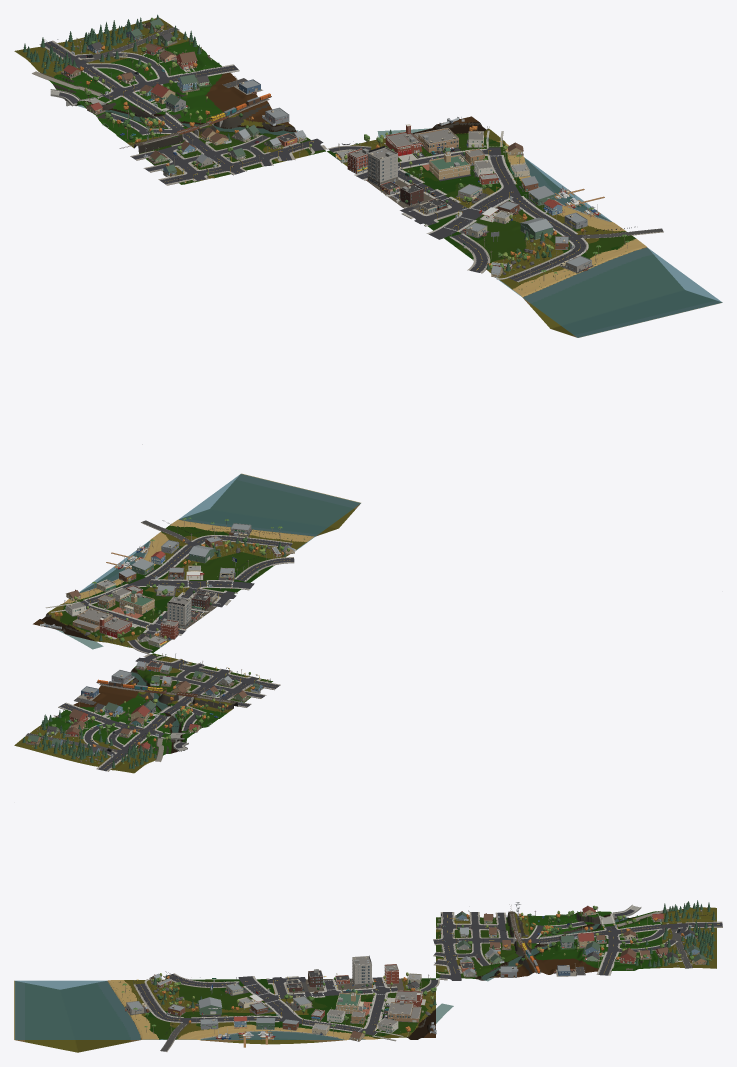
File: PortSolace_Exterior_part4of5.fbx
The picture shows the model from 3 angles, top to bottom: view 1: azimuth 30°, elevation 25°; view 2: azimuth 150°, elevation 25°; view 3: azimuth 270°, elevation 25°; orthographic projection. The views are drawn at different scales.
Parts seen in each view (by area): view 1: Terrain_1_7, Roads_C2_3.asphalt, Sea_0_6, Sea_0_7, Roads_C3_1.asphalt, Terrain_1_6, Terrain_7_5, Terrain_0_6, Sea_1_7, Terrain_0_7, Props_C2_4.leaf_pine, Roads_C2_4.asphalt (+20 smaller); view 2: Terrain_0_7, Terrain_0_6, Sea_0_7, Sea_0_6, Roads_C2_3.asphalt, Roads_C3_1.asphalt, Props_C2_4.leaf_pine, Sea_1_7, Terrain_2_6, Roads_C2_4.asphalt, Terrain_7_5, Terrain_1_7 (+21 smaller); view 3: Roads_C2_3.asphalt, Sea_0_6, Terrain_1_7, Terrain_0_6, Terrain_0_7, Sea_0_7, Roads_C3_1.asphalt, Terrain_1_6, Sea_1_7, Props_C2_4.leaf_pine, Terrain_7_5, Roads_C3_2.asphalt (+22 smaller).
Part boxes in pixels (x1,y1,x2,y2): Terrain_1_7: (581,241,680,298); Roads_C2_3.asphalt: (110,93,324,184); Sea_0_6: (536,290,649,337); Sea_0_7: (609,272,722,320); Roads_C3_1.asphalt: (405,184,585,272); Terrain_1_6: (497,266,607,312); Terrain_7_5: (175,86,280,134); Terrain_0_6: (536,300,649,337); Sea_1_7: (584,247,680,289); Terrain_0_7: (609,286,722,320); Props_C2_4.leaf_pine: (23,14,201,90); Roads_C2_4.asphalt: (44,41,238,105); Terrain_0_7: (208,473,300,521); Terrain_0_6: (268,488,360,532); Sea_0_7: (207,474,300,513); Sea_0_6: (267,488,360,528); Roads_C2_3.asphalt: (135,655,279,731); Roads_C3_1.asphalt: (128,536,294,604); Props_C2_4.leaf_pine: (22,704,156,768); Sea_1_7: (179,499,265,526); Terrain_2_6: (197,542,289,577); Roads_C2_4.asphalt: (59,703,185,771); Terrain_7_5: (92,679,172,712); Terrain_1_7: (172,510,265,535); Roads_C2_3.asphalt: (433,912,605,980); Sea_0_6: (14,980,84,1010); Terrain_1_7: (84,1010,154,1051); Terrain_0_6: (14,980,83,1020); Terrain_0_7: (14,1010,84,1052); Sea_0_7: (14,1010,84,1039); Roads_C3_1.asphalt: (153,974,304,1023); Terrain_1_6: (84,980,154,1017); Sea_1_7: (84,1010,154,1039); Props_C2_4.leaf_pine: (582,900,715,967); Terrain_7_5: (506,943,576,977); Roads_C3_2.asphalt: (292,977,437,1035).
Bounding box in the file's own units: 215722 × 15792 × 258185.
